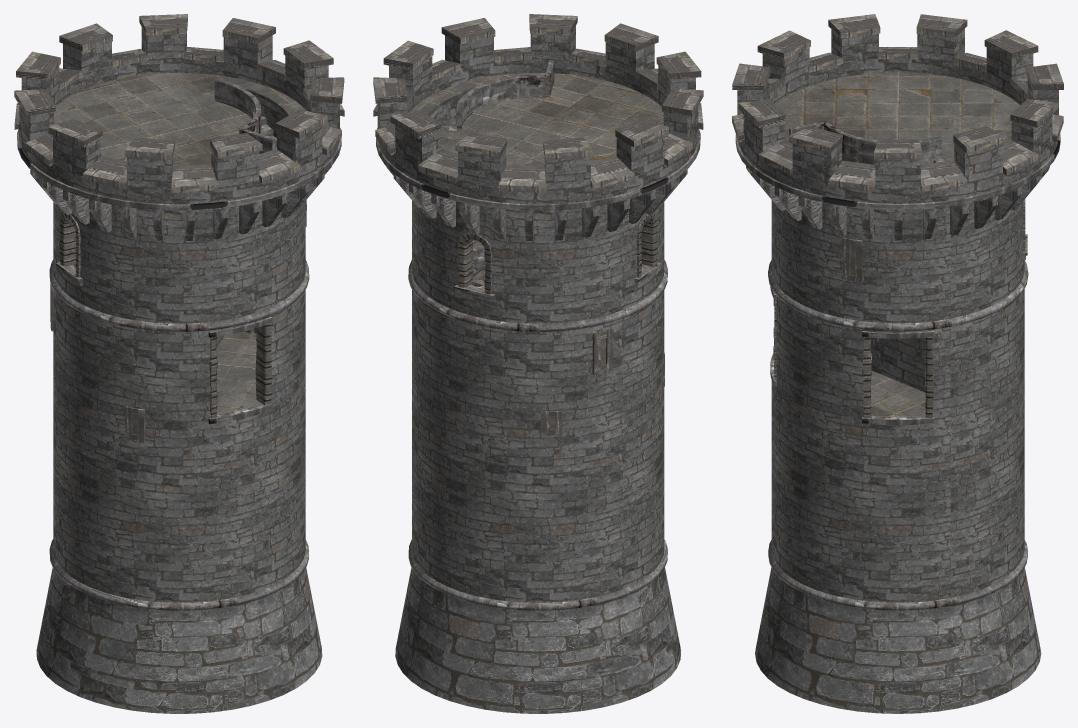
The model's file is MC_Castle_Tower_B_18m.fbx.
3 views of the same model, side by side, from view 1: azimuth 30°, elevation 25°; view 2: azimuth 150°, elevation 25°; view 3: azimuth 270°, elevation 25° (orthographic).
Parts seen in each view (by area): view 1: MC_Castle_Tower_B_18m_LOD0; view 2: MC_Castle_Tower_B_18m_LOD0; view 3: MC_Castle_Tower_B_18m_LOD0.
Boxes of the visible parts, x1=… form: MC_Castle_Tower_B_18m_LOD0: x1=14, y1=14, x2=344, y2=713; MC_Castle_Tower_B_18m_LOD0: x1=373, y1=14, x2=703, y2=713; MC_Castle_Tower_B_18m_LOD0: x1=732, y1=14, x2=1063, y2=713.
Size of what is drawn, in the model's own units: 1042 by 1990 by 1050.
